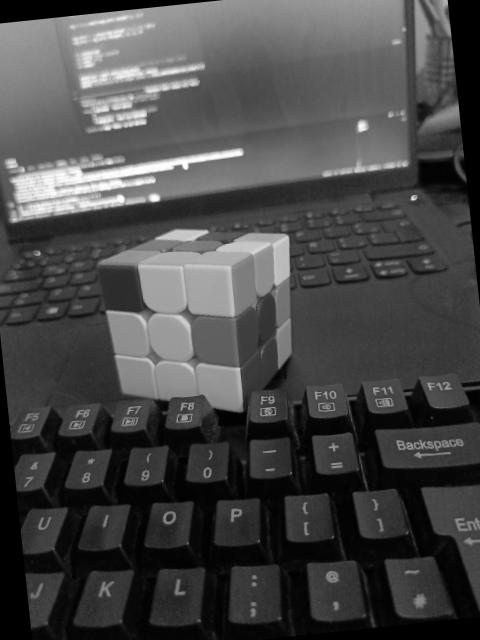rubik: (93, 216, 307, 424)
